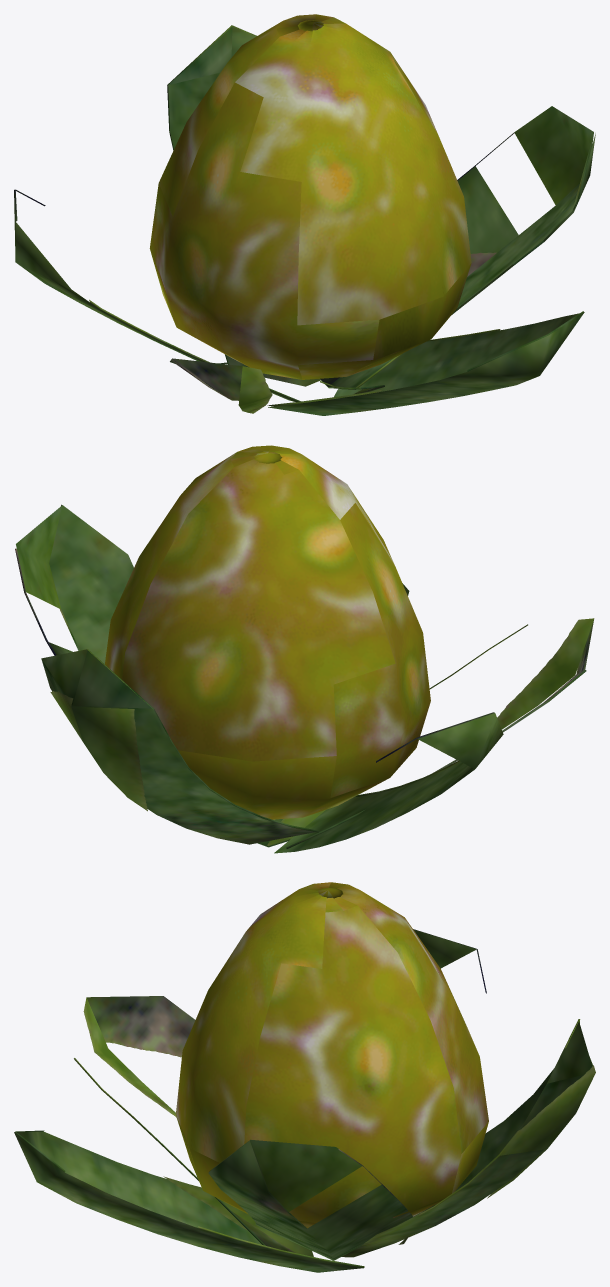
3 views of the same model, one above another, from view 1: azimuth 30°, elevation 25°; view 2: azimuth 150°, elevation 25°; view 3: azimuth 270°, elevation 25° (orthographic). The views are drawn at different scales.
Visible parts, largest first — view 1: leaf3; view 2: leaf3; view 3: leaf3.
Boxes of the visible parts, box(x1,y1,x2,y2) form: leaf3: box(14, 14, 595, 415); leaf3: box(15, 445, 594, 853); leaf3: box(14, 882, 595, 1272).
Size of the model in its own units: 0.0306 by 0.0313 by 0.0226.
